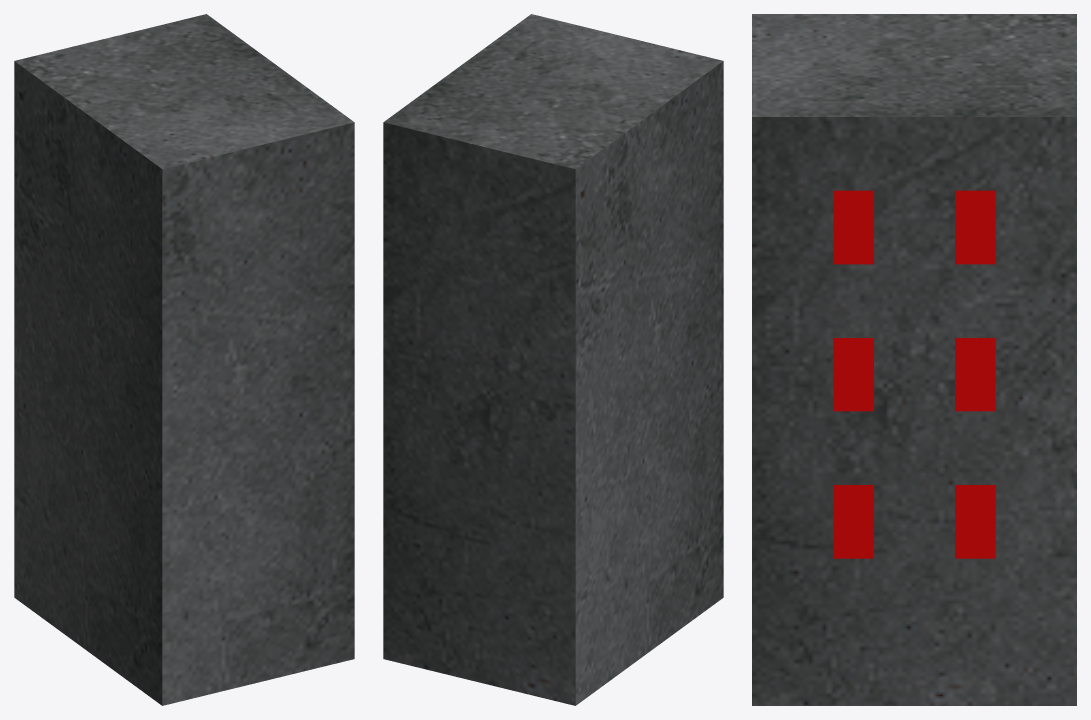
The model's file is TeslaGate_Detector 1.obj.
3 views of the same model, side by side, from view 1: azimuth 30°, elevation 25°; view 2: azimuth 150°, elevation 25°; view 3: azimuth 270°, elevation 25° (orthographic). The views are drawn at different scales.
Parts seen in each view (by area): view 1: TeslaGate_Detector; view 2: TeslaGate_Detector; view 3: TeslaGate_Detector.
Boxes of the visible parts, box(x1,y1,x2,y2) form: TeslaGate_Detector: box(14, 14, 354, 705); TeslaGate_Detector: box(383, 14, 723, 705); TeslaGate_Detector: box(752, 14, 1076, 705).
Bounding box in the file's own units: 0.15 × 0.4 × 0.2.
2 materials, 1 textured.
